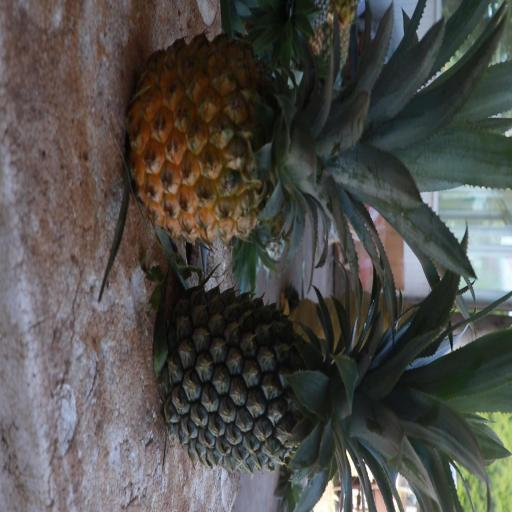Pineapple - v8 v1: (128, 40, 442, 242)
